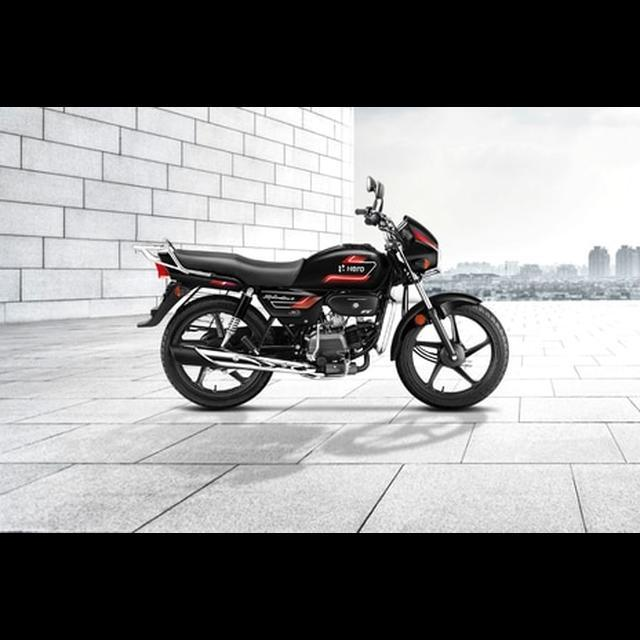motorcycle: (133, 167, 515, 416)
